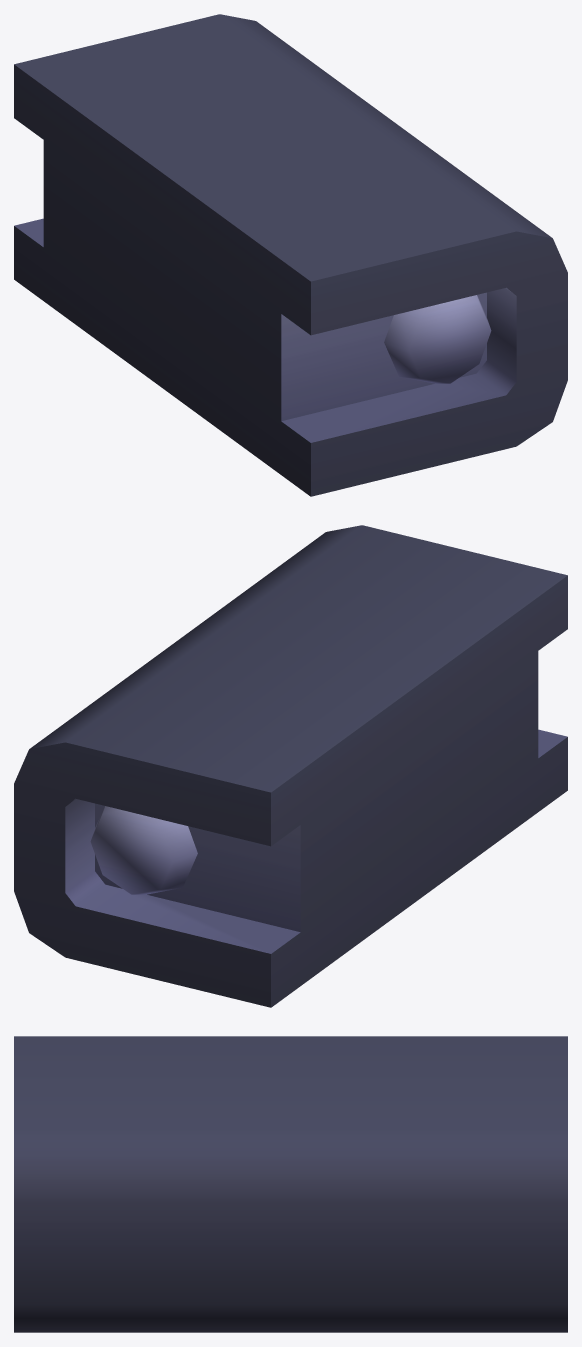
File: kenney-conveyor-conveyor-long-part-end.glb
The picture shows the model from 3 angles, top to bottom: view 1: azimuth 30°, elevation 25°; view 2: azimuth 150°, elevation 25°; view 3: azimuth 270°, elevation 25°; orthographic projection. The views are drawn at different scales.
Parts seen in each view (by area): view 1: conveyor-long-part-end; view 2: conveyor-long-part-end; view 3: conveyor-long-part-end.
Boxes of the visible parts, left/top/right/bottom form: conveyor-long-part-end: left=14, top=14, right=567, bottom=496; conveyor-long-part-end: left=14, top=525, right=567, bottom=1007; conveyor-long-part-end: left=14, top=1036, right=567, bottom=1332.
Bounding box in the file's own units: 0.5001 × 0.3999 × 1.
Materials: 1 (1 with a texture image).
